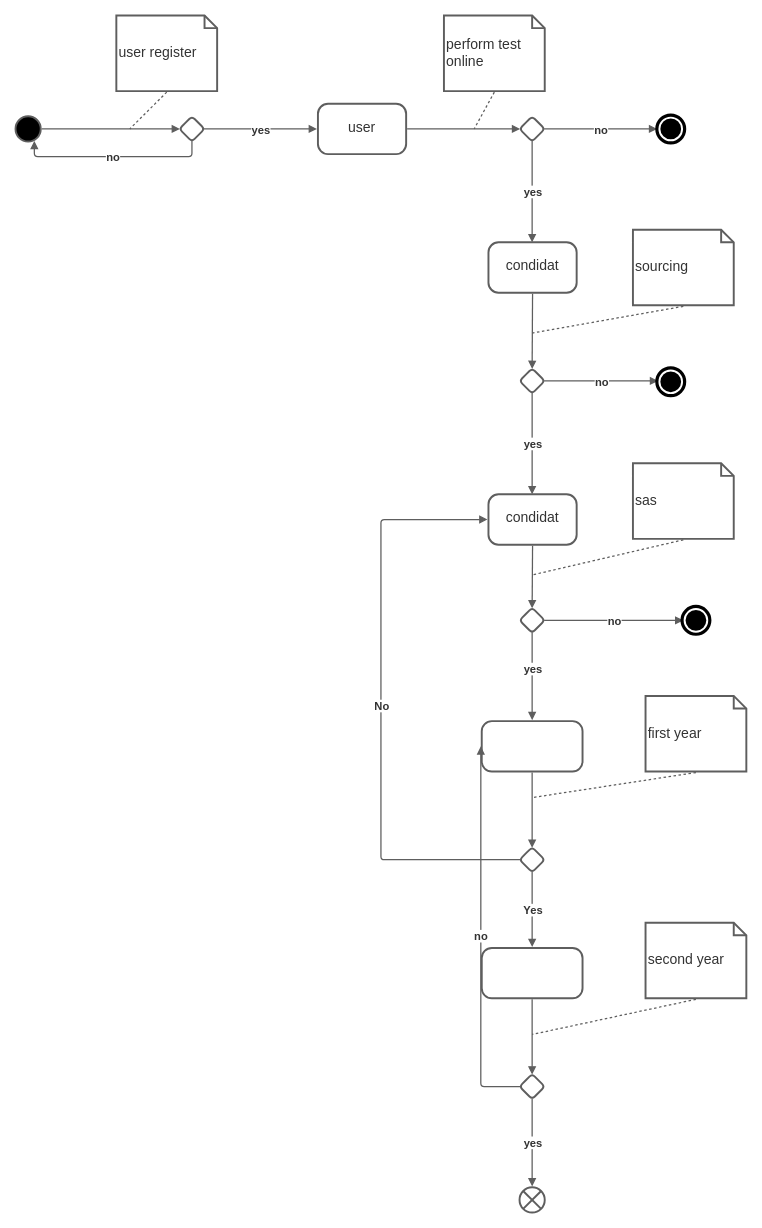
Image size: 762x1228. Some labels were removed from this diagram. The box of each missing label's shape, as (x1, y1, x2, y2) in pixels:
student first year: (480, 720, 583, 772)
student second year: (480, 947, 583, 999)
